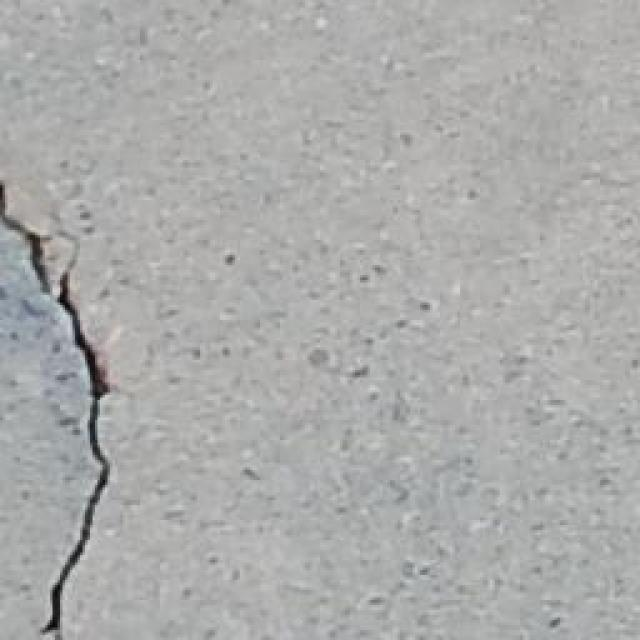concrete-crack: (0, 178, 112, 640)
